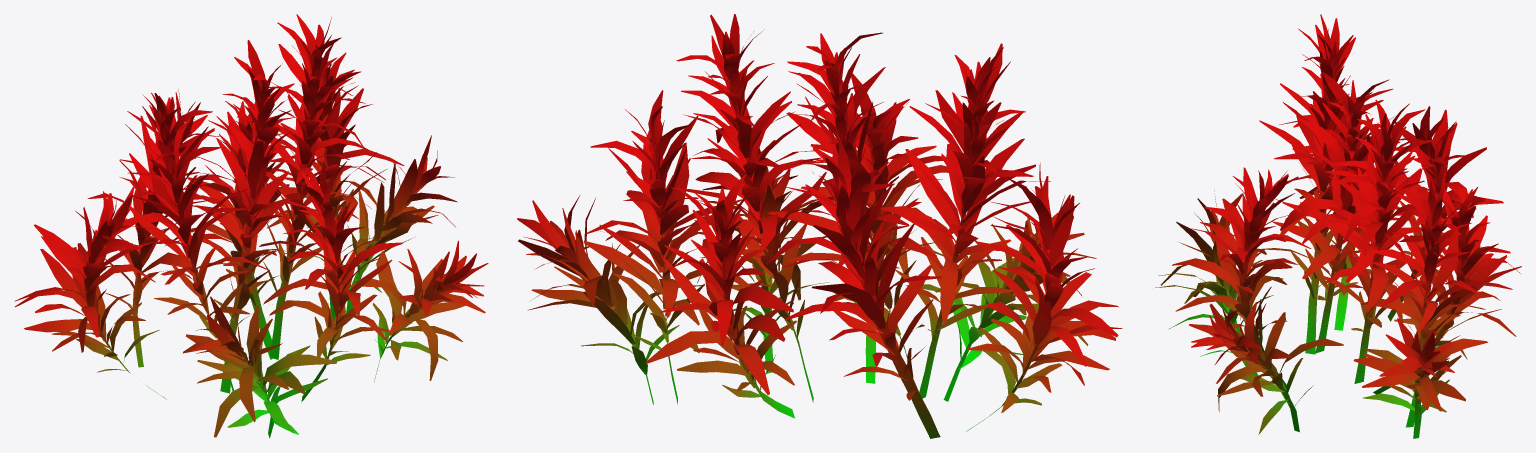
File: Butterfly Weed_LOD3_Var1.fbx
3 renders of one model, left to right at view 1: azimuth 30°, elevation 25°; view 2: azimuth 150°, elevation 25°; view 3: azimuth 270°, elevation 25°, orthographic. The views are drawn at different scales.
Parts seen in each view (by area): view 1: _z1d4_Var1_LOD3; view 2: _z1d4_Var1_LOD3; view 3: _z1d4_Var1_LOD3.
Boxes of the visible parts, left/top/right/bottom form: _z1d4_Var1_LOD3: left=14, top=14, right=488, bottom=438; _z1d4_Var1_LOD3: left=517, top=14, right=1122, bottom=438; _z1d4_Var1_LOD3: left=1155, top=14, right=1521, bottom=438.
Bounding box in the file's own units: 112 × 78.28 × 79.65.
